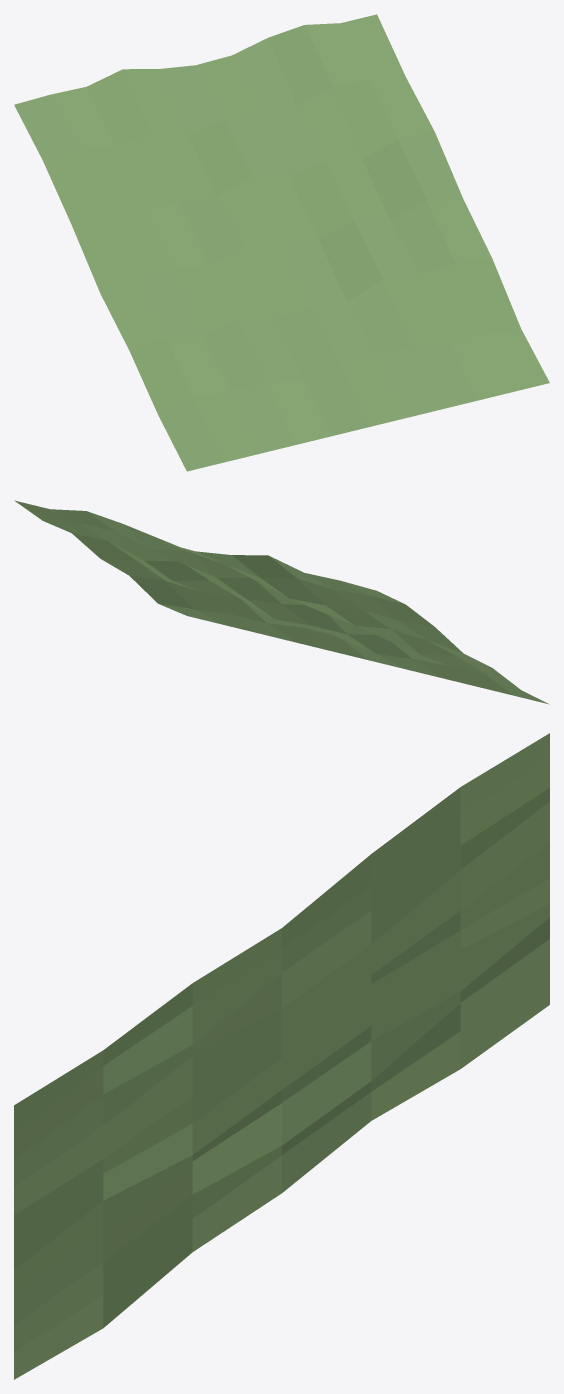
File: slope.glb
The picture shows the model from 3 angles, top to bottom: view 1: azimuth 30°, elevation 25°; view 2: azimuth 150°, elevation 25°; view 3: azimuth 270°, elevation 25°; orthographic projection. The views are drawn at different scales.
Parts seen in each view (by area): view 1: slope; view 2: slope; view 3: slope.
Boxes of the visible parts, left/top/right/bottom form: slope: left=14, top=14, right=549, bottom=471; slope: left=14, top=500, right=549, bottom=704; slope: left=14, top=733, right=549, bottom=1379.
Bounding box in the file's own units: 80 × 52.48 × 66.
